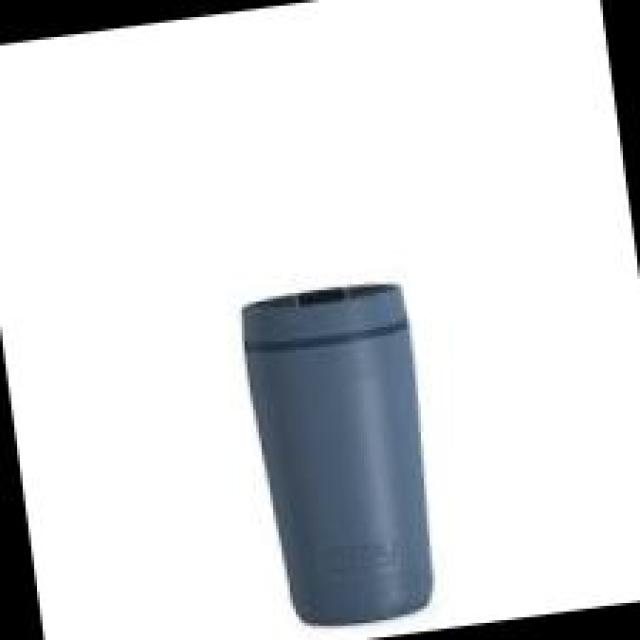bottle: (229, 266, 451, 636)
